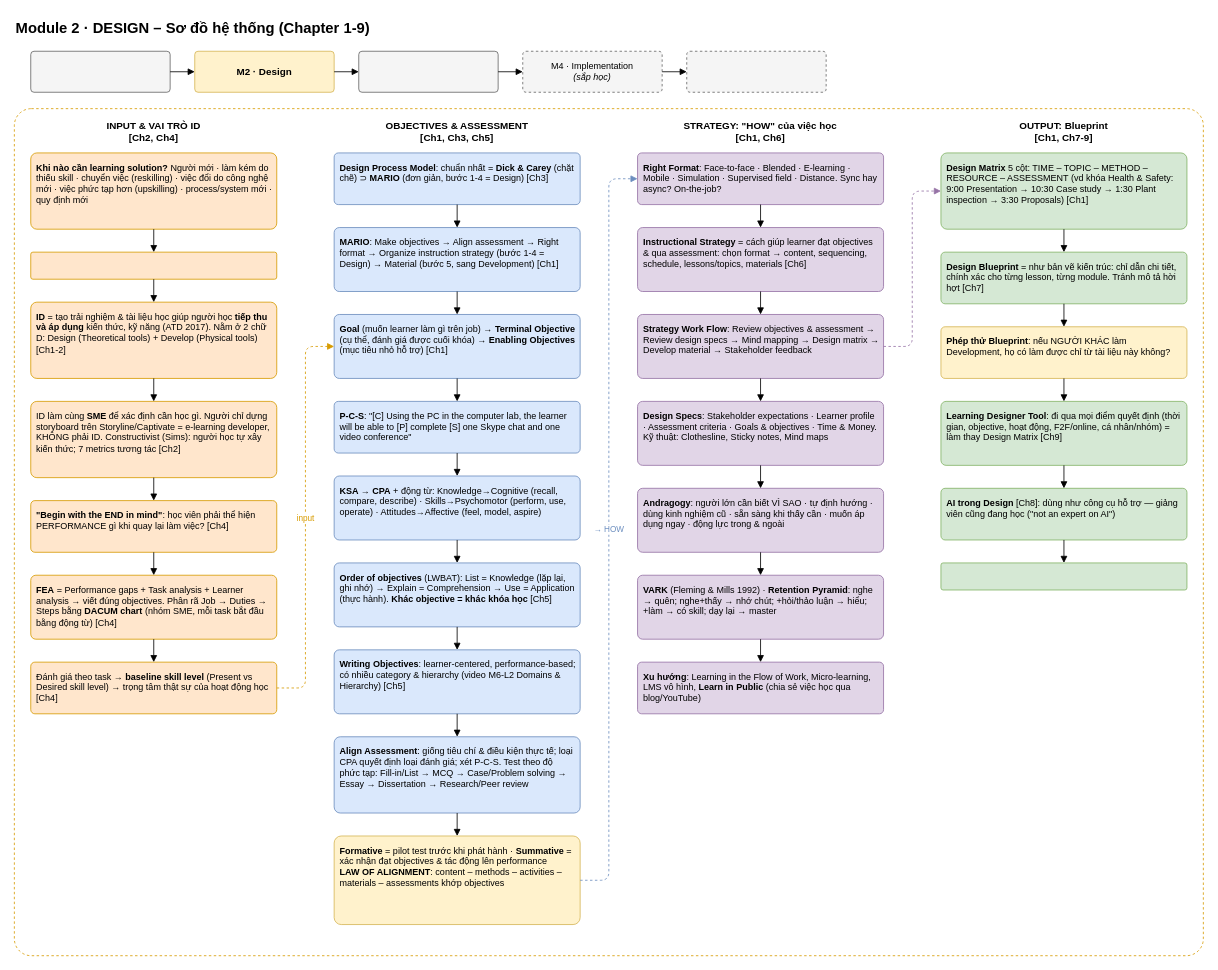
Some shapes in this 1218 by 970 pixel diagram are drawn without their labels. The centre of each missing label's shape, as x and y in pixels:
2 ý phải nhớ : EMPATHIZE + INVESTIGATE: (x=153, y=265)
M1 · Analysis: (x=100, y=71)
M3 · Development: (x=428, y=71)
M5 · Evaluation (sắp học): (x=756, y=71)
→ Blueprint là đầu vào của M3 Development: (x=1063, y=576)
